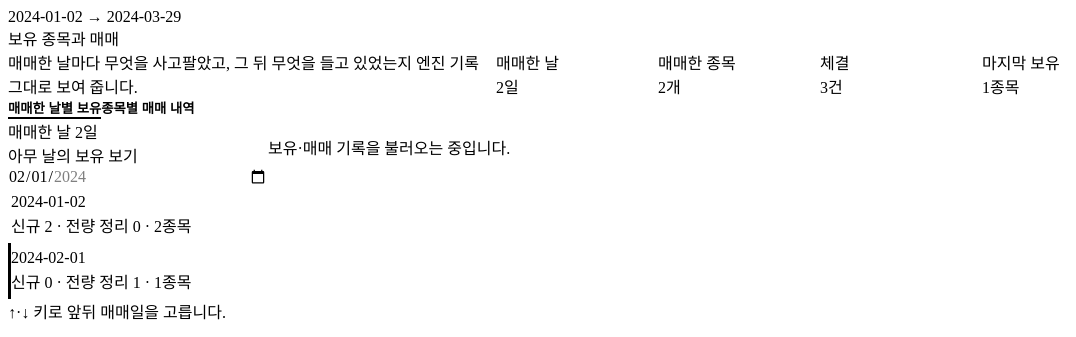
it: BacktestHoldings › shows the server's reason for a day without an account record
Note: 날짜 고르개는 완성된 날짜 하나를 값으로 넣는다.
Type "2024-01-06" into the date field labelled "아무 날의 보유 보기" at (138, 177), box [8,167,268,187]
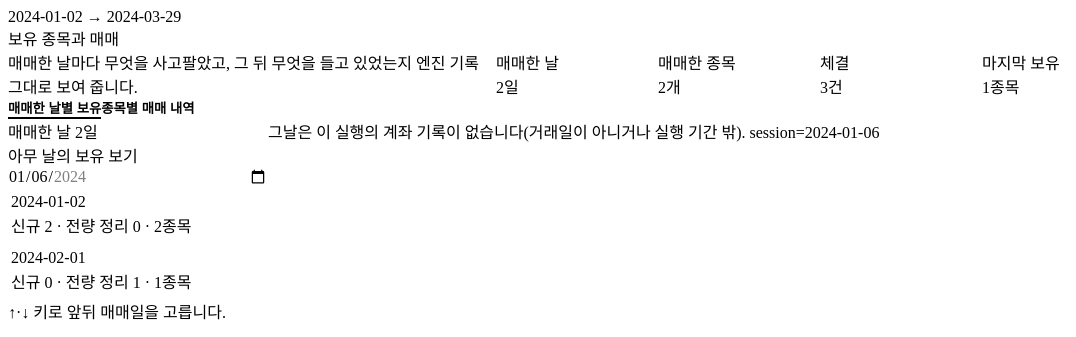
Expected: the text "그날은 이 실행의 계좌 기록이 없습니다(거래일이 아니거나 실행 기간 밖). session=2024-01-06" is shown, [268,124,880,141]
